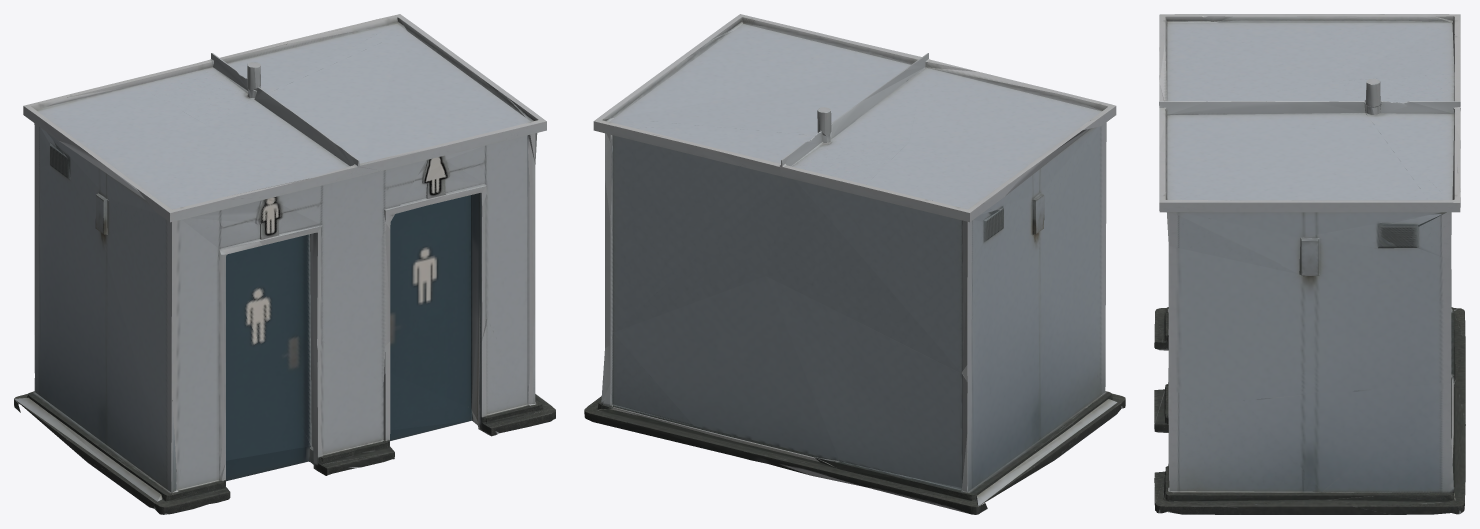
File: rest_room.glb
3 views of the same model, side by side, from view 1: azimuth 30°, elevation 25°; view 2: azimuth 150°, elevation 25°; view 3: azimuth 270°, elevation 25° (orthographic). The views are drawn at different scales.
Parts seen in each view (by area): view 1: output_unwrapped; view 2: output_unwrapped; view 3: output_unwrapped.
Part boxes in pixels (x1=…): output_unwrapped: x1=14, y1=14, x2=555, y2=514; output_unwrapped: x1=584, y1=14, x2=1125, y2=514; output_unwrapped: x1=1154, y1=14, x2=1465, y2=514.
Bounding box in the file's own units: 1.9 × 1.48 × 1.25.
1 material, 1 textured.
